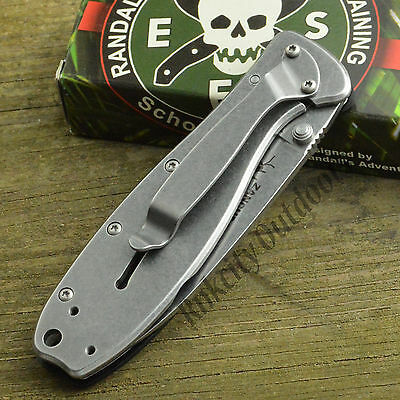knief: (39, 34, 354, 383)
